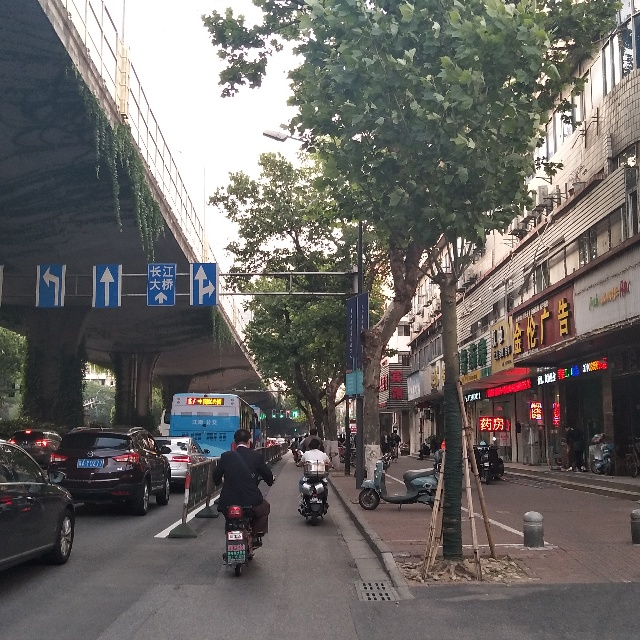left: (36, 265, 64, 309)
straight: (98, 263, 120, 307)
